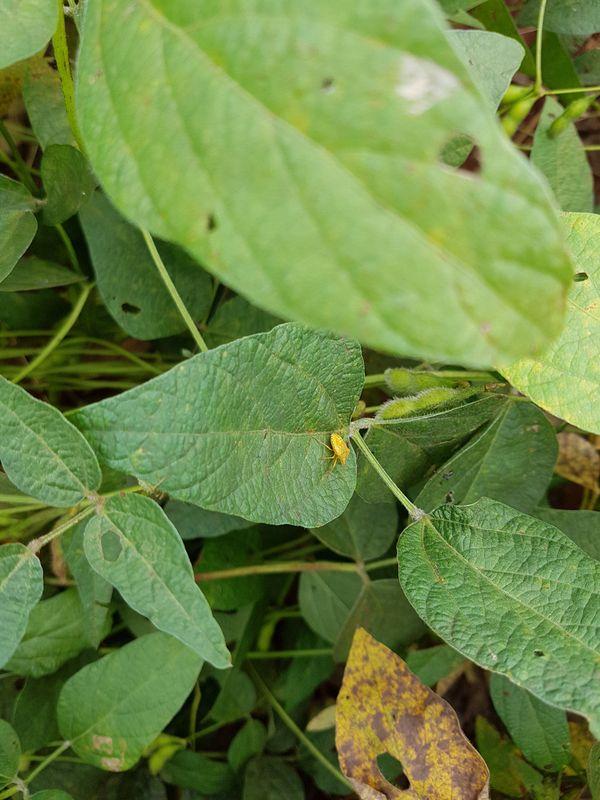Euschistus_heros_ninfa: (315, 426, 364, 479)
